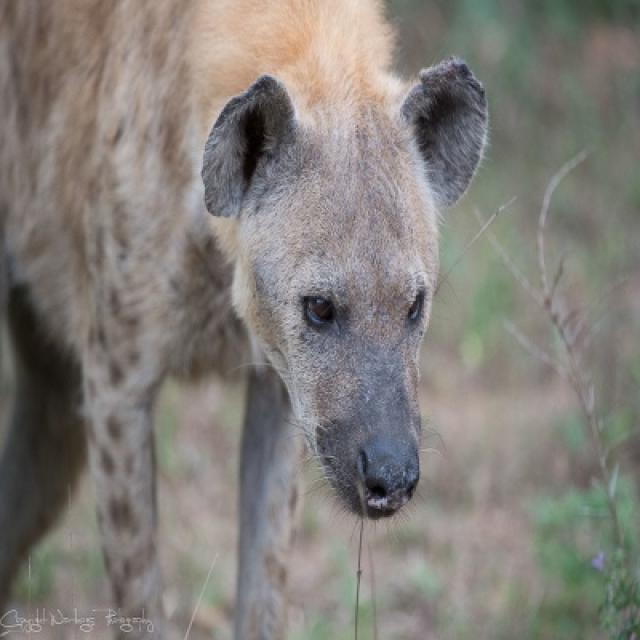hyena: (0, 0, 490, 622)
